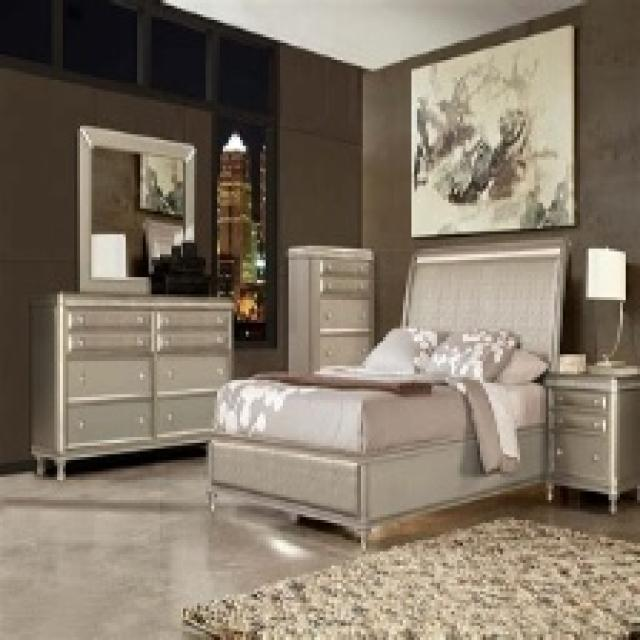Bed: (203, 237, 568, 552)
